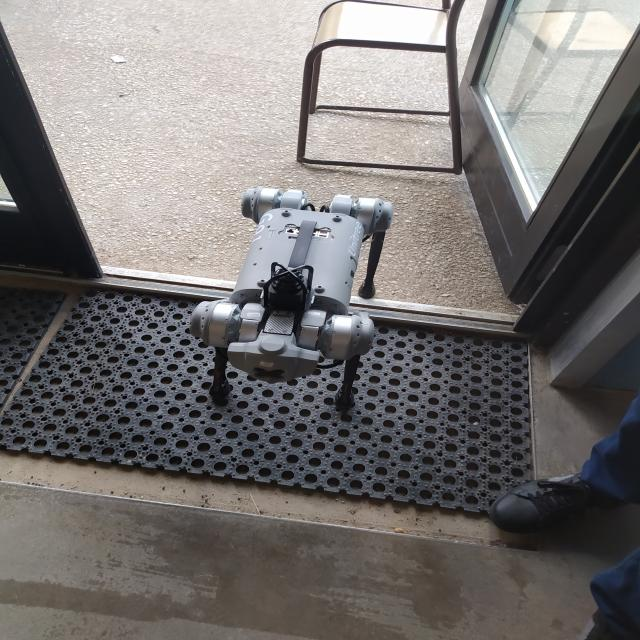unitree-go1-robot: (184, 177, 399, 426)
